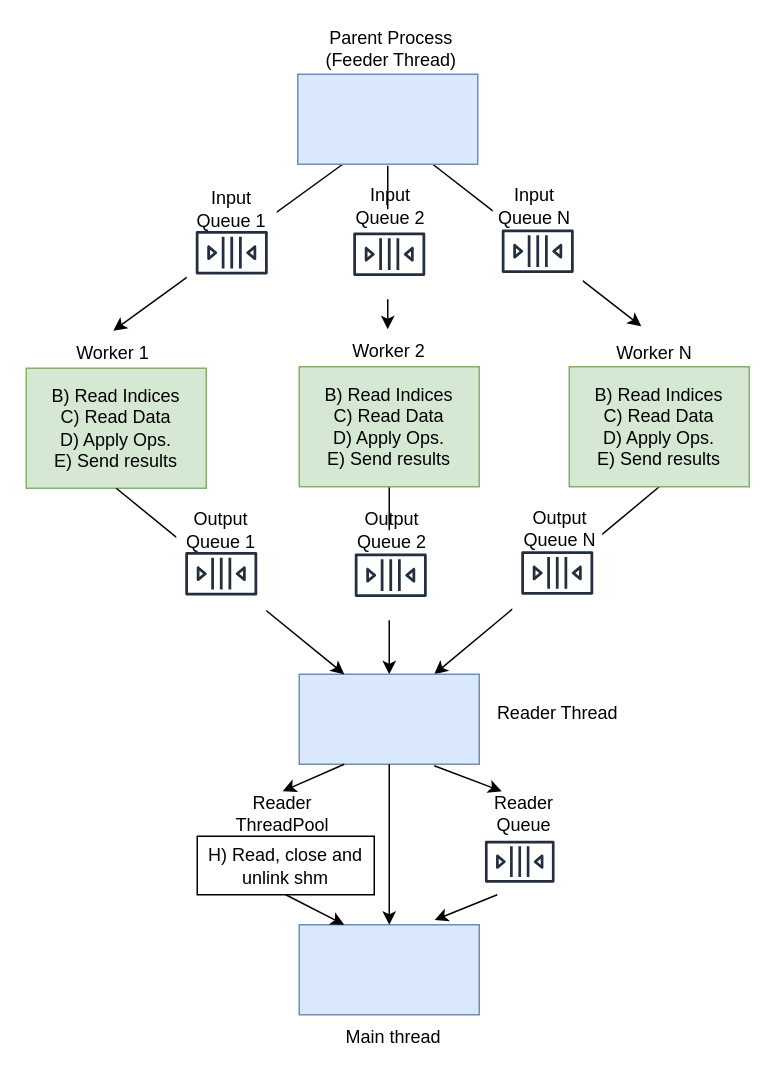
The diagram is 776 pixels wide and 1085 high, and some of its shapes have lost their labels. The shapes that lost their labels are listed below. From the top down, each one's box as (x1, y1, x2, y2) in pixels, then its label:
(296, 73, 478, 164): A) Sample & Distribute Indices
(298, 673, 479, 764): F) Reads Results G) Submit to threadpool
(298, 923, 479, 1015): H) Provide batches to end user
